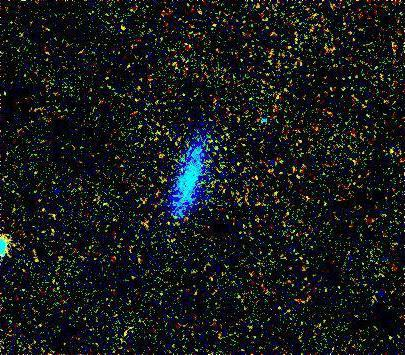star: (148, 137, 178, 167)
